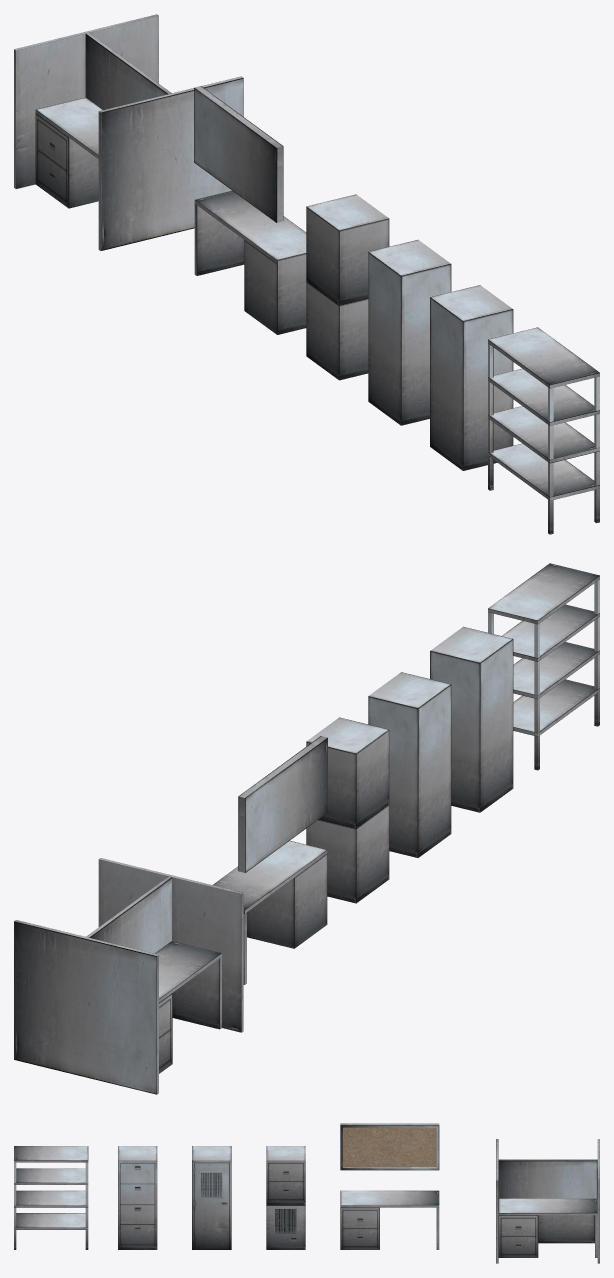
Rendered from Office.fbx.
The picture shows the model from 3 angles, top to bottom: view 1: azimuth 30°, elevation 25°; view 2: azimuth 150°, elevation 25°; view 3: azimuth 270°, elevation 25°; orthographic projection. The views are drawn at different scales.
Visible parts, largest first — view 1: OfficeCubicle, Shelves, FilingCabinet, Locker, OfficeDesk, Board, Drawer, SmallLocker; view 2: OfficeCubicle, Shelves, FilingCabinet, Locker, OfficeDesk, Board, Drawer, SmallLocker; view 3: OfficeCubicle, Shelves, Board, Locker, FilingCabinet, OfficeDesk, Drawer, SmallLocker.
Boxes of the visible parts, x1=… form: OfficeCubicle: x1=14, y1=14, x2=243, y2=250; Shelves: x1=488, y1=327, x2=599, y2=534; FilingCabinet: x1=430, y1=285, x2=513, y2=470; Locker: x1=368, y1=240, x2=451, y2=425; OfficeDesk: x1=194, y1=190, x2=306, y2=334; Board: x1=194, y1=86, x2=283, y2=222; Drawer: x1=306, y1=194, x2=389, y2=305; SmallLocker: x1=306, y1=282, x2=368, y2=380; OfficeCubicle: x1=14, y1=858, x2=243, y2=1094; Shelves: x1=488, y1=563, x2=599, y2=770; FilingCabinet: x1=430, y1=626, x2=513, y2=812; Locker: x1=368, y1=672, x2=451, y2=857; OfficeDesk: x1=213, y1=841, x2=327, y2=984; Board: x1=238, y1=736, x2=327, y2=872; Drawer: x1=306, y1=717, x2=389, y2=828; SmallLocker: x1=306, y1=805, x2=389, y2=903; OfficeCubicle: x1=496, y1=1139, x2=599, y2=1263; Shelves: x1=14, y1=1146, x2=88, y2=1249; Board: x1=340, y1=1123, x2=439, y2=1170; Locker: x1=192, y1=1146, x2=231, y2=1249; FilingCabinet: x1=118, y1=1146, x2=157, y2=1249; OfficeDesk: x1=340, y1=1190, x2=439, y2=1249; Drawer: x1=266, y1=1146, x2=305, y2=1205; SmallLocker: x1=266, y1=1205, x2=305, y2=1249.
Bounding box in the file's own units: 400 × 500 × 2370.
